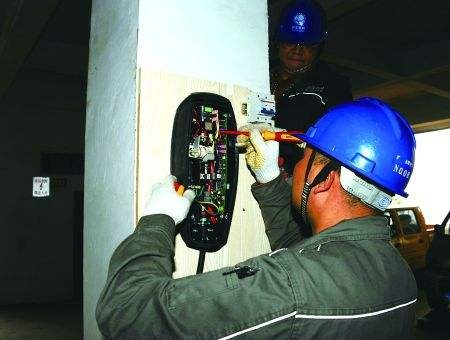blue: (291, 96, 412, 227), (276, 6, 326, 72)
